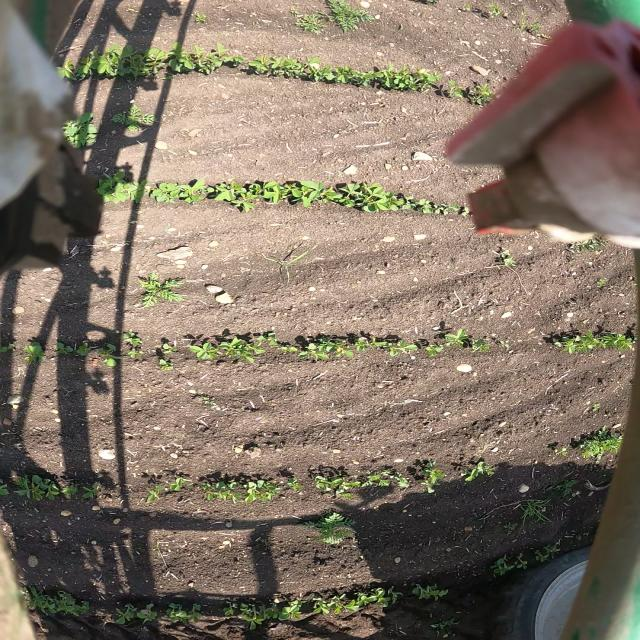plants: (298, 510, 372, 556), (333, 180, 413, 214), (256, 244, 324, 281), (123, 274, 190, 310), (576, 425, 630, 463), (501, 495, 558, 529), (320, 0, 378, 32), (107, 168, 151, 209), (107, 104, 159, 136), (286, 177, 336, 209), (548, 328, 604, 356), (282, 52, 331, 82), (409, 459, 452, 493), (239, 48, 283, 79), (311, 473, 359, 501), (441, 329, 496, 353), (512, 12, 556, 42), (215, 181, 256, 213), (239, 477, 286, 504), (243, 178, 288, 206), (106, 41, 138, 80), (455, 460, 502, 485), (373, 63, 412, 93), (174, 45, 212, 75), (152, 174, 183, 210), (138, 47, 173, 77), (402, 579, 447, 602), (199, 478, 240, 503), (178, 180, 215, 206), (562, 236, 609, 256), (332, 64, 374, 86), (216, 338, 254, 362), (413, 68, 448, 94), (288, 11, 324, 36), (246, 600, 273, 632), (484, 247, 525, 268), (253, 332, 292, 354), (426, 616, 465, 638), (464, 84, 500, 107), (274, 598, 310, 620), (412, 198, 448, 219), (163, 474, 200, 494), (548, 478, 586, 497), (360, 588, 396, 608), (136, 603, 165, 627), (359, 469, 392, 490), (292, 342, 328, 361), (603, 332, 640, 350), (318, 338, 353, 357), (110, 603, 136, 628), (482, 558, 513, 577), (311, 598, 340, 618), (414, 340, 446, 358), (506, 553, 536, 572), (140, 486, 169, 505), (353, 334, 385, 351), (151, 339, 181, 357), (185, 603, 212, 623), (191, 392, 224, 408), (383, 339, 414, 356), (163, 603, 188, 624), (185, 342, 212, 361), (389, 468, 410, 492), (334, 594, 361, 612), (116, 331, 145, 347), (450, 1, 481, 15), (217, 603, 244, 619), (280, 478, 307, 494), (217, 45, 237, 66), (444, 80, 466, 98), (450, 202, 476, 217), (542, 540, 566, 556), (481, 3, 504, 19), (153, 358, 181, 371), (189, 12, 214, 26), (73, 341, 94, 357), (584, 400, 608, 414), (93, 344, 120, 356), (100, 354, 122, 368), (386, 586, 405, 602), (122, 4, 147, 16), (589, 276, 611, 289), (528, 552, 554, 563), (122, 347, 145, 358), (555, 449, 578, 459), (414, 0, 440, 5)
